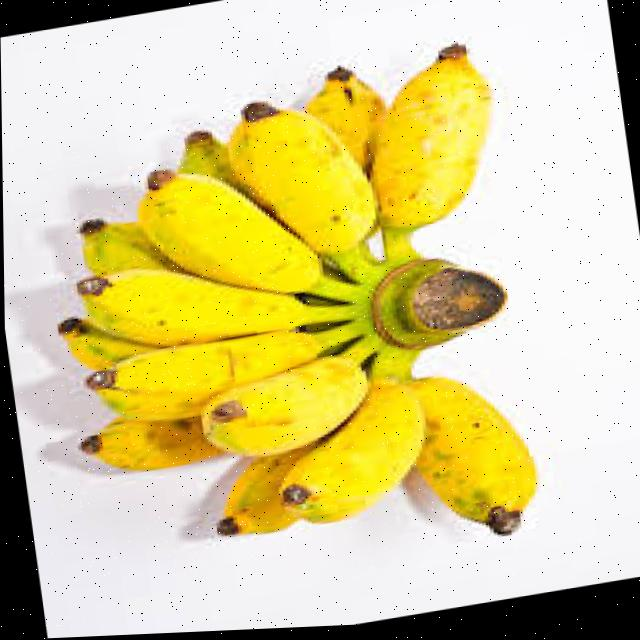Banana: (229, 104, 375, 254), (139, 173, 317, 296), (372, 49, 491, 232), (407, 381, 534, 539), (279, 390, 422, 526), (78, 270, 307, 348), (201, 359, 362, 456), (89, 333, 319, 398), (217, 445, 315, 535), (305, 69, 383, 172), (80, 419, 219, 472), (83, 222, 181, 276), (56, 318, 155, 371), (132, 399, 202, 418)
